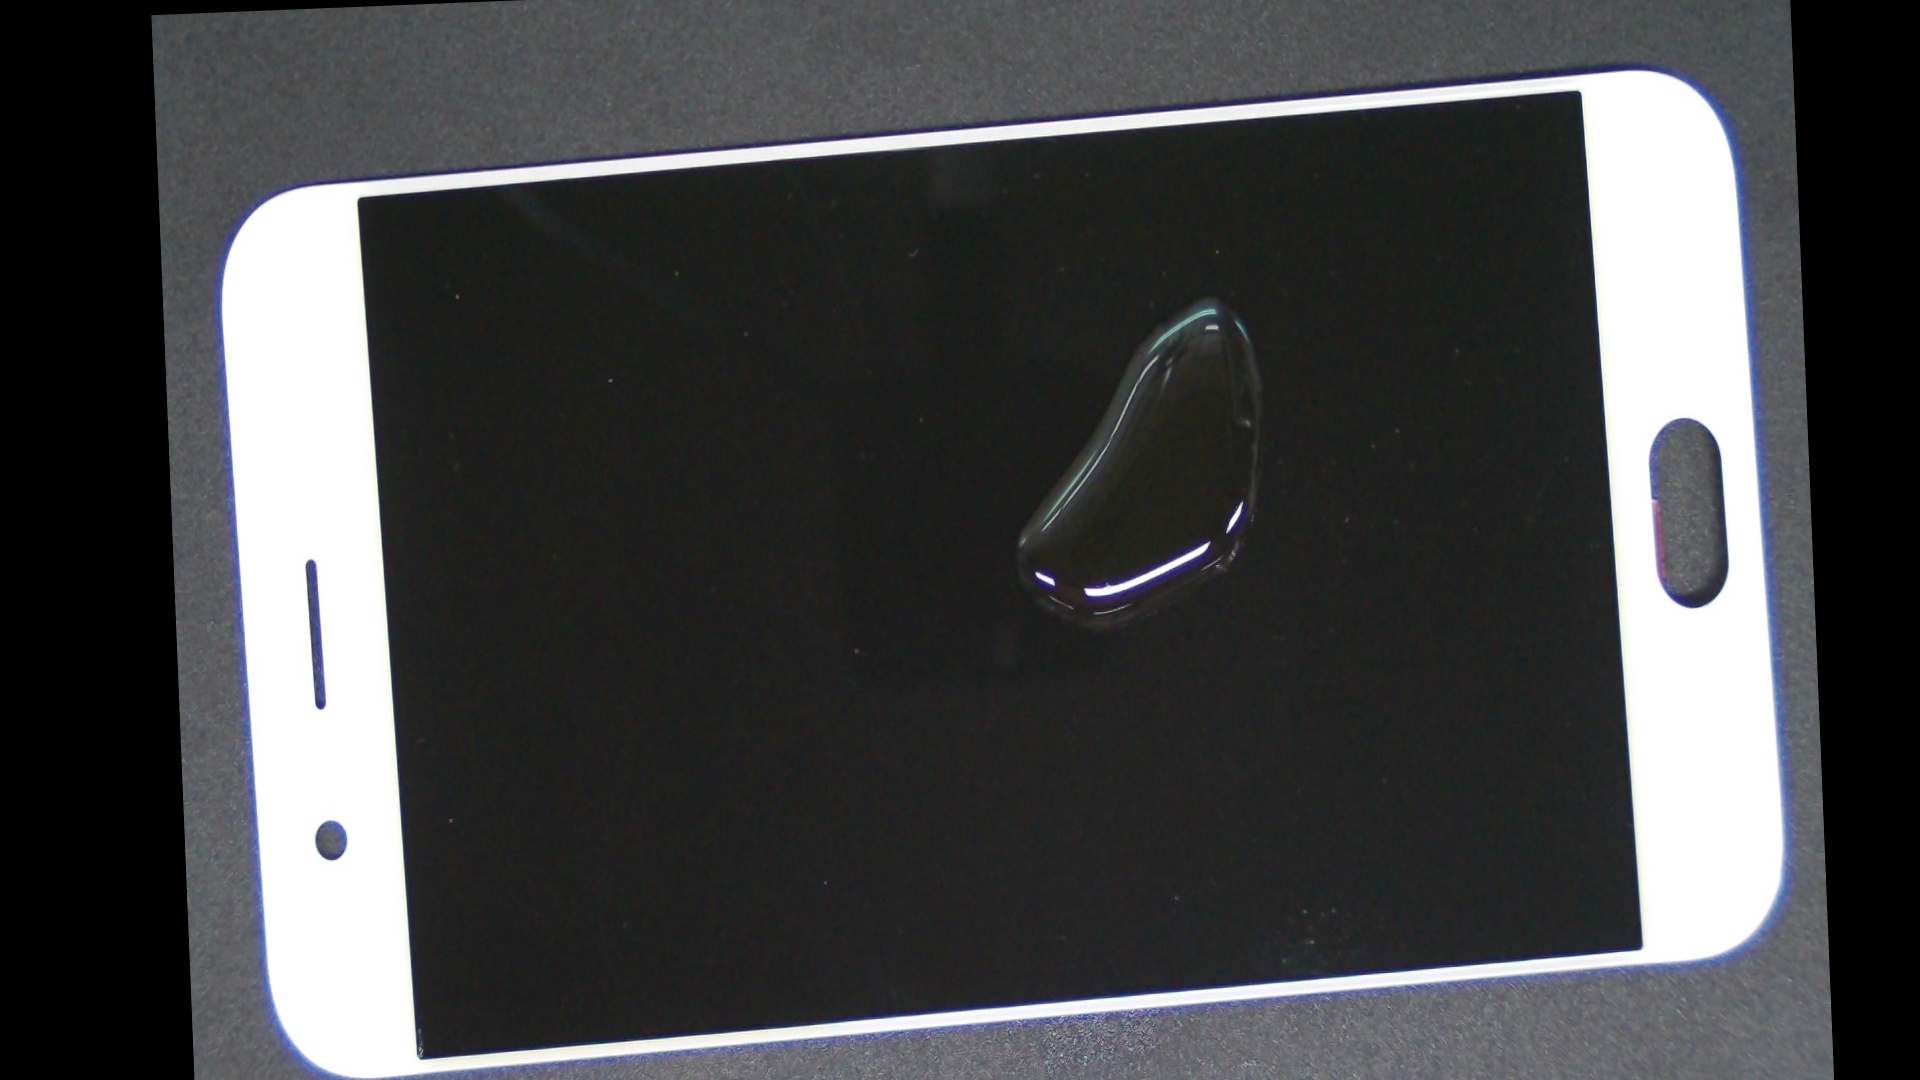oil: (678, 113, 1729, 479)
